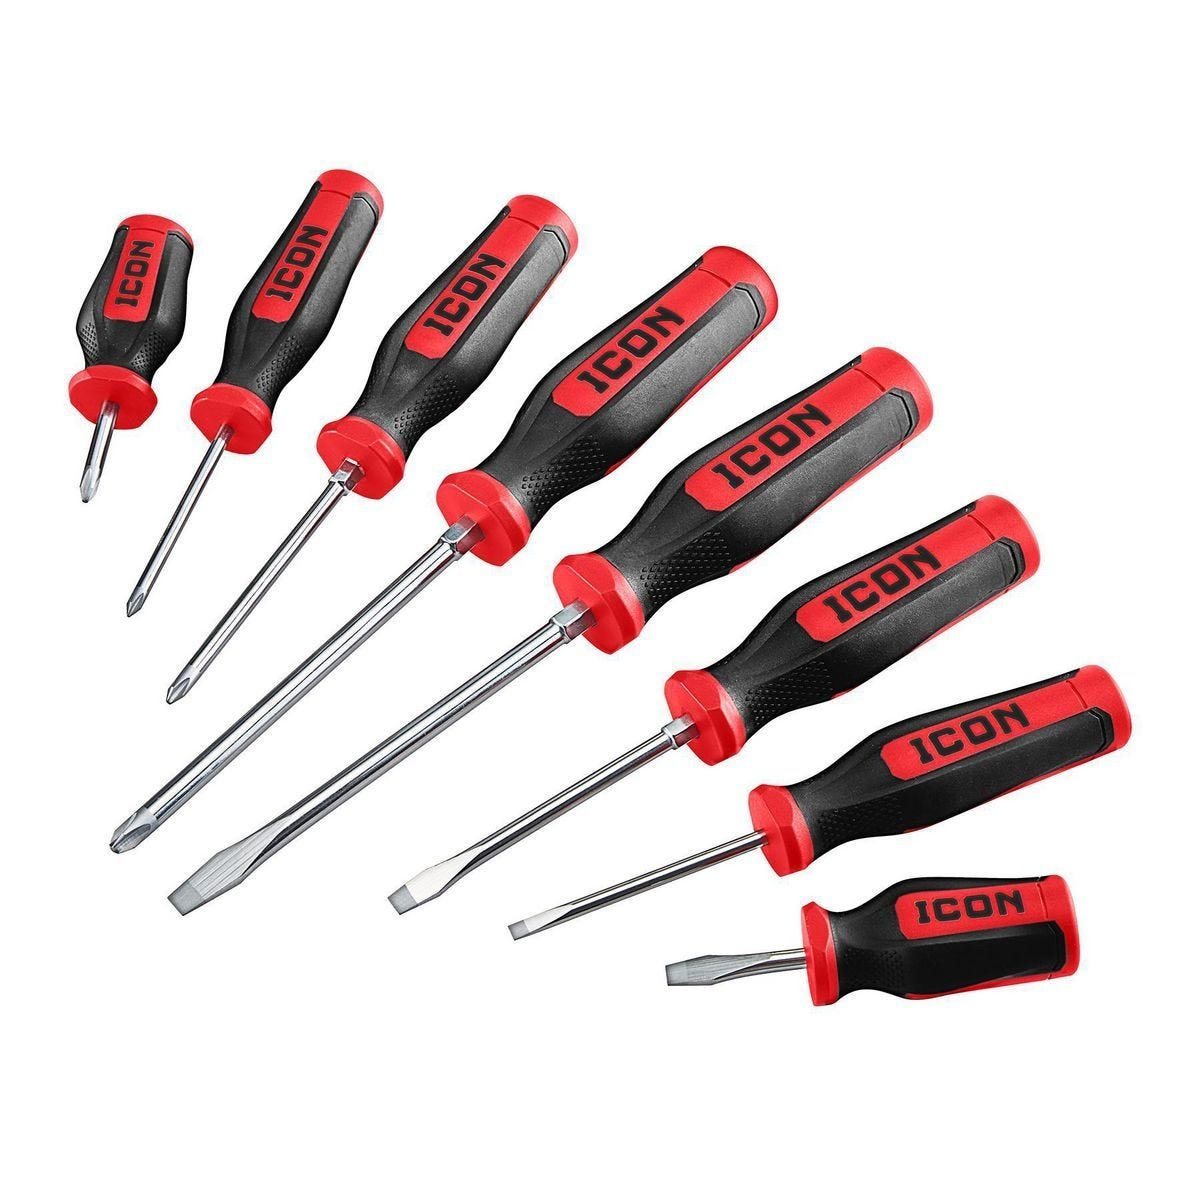screwdriver: (169, 345, 937, 916), (110, 246, 779, 853), (388, 491, 1044, 918), (162, 192, 581, 708), (504, 664, 1134, 942), (122, 167, 387, 616), (665, 874, 1080, 1005), (65, 214, 196, 504)
